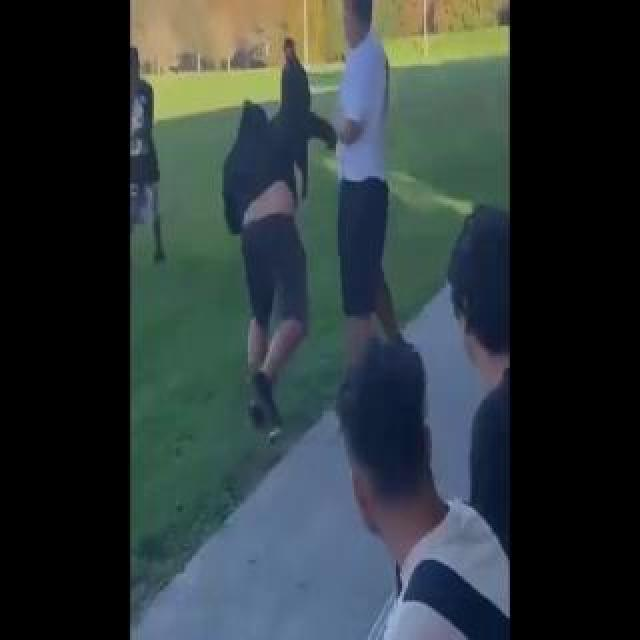fight: (213, 0, 409, 390)
